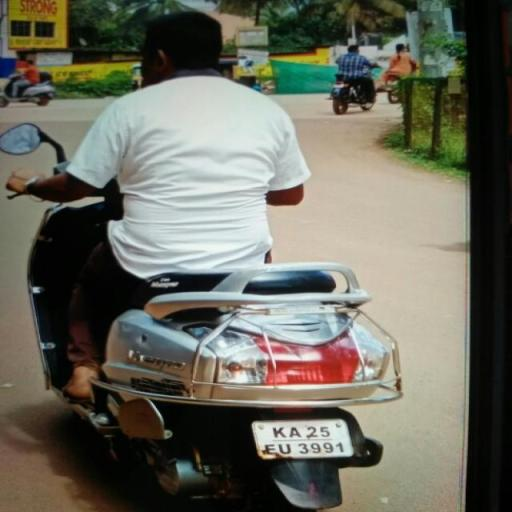bike: (0, 4, 410, 510)
numberplate: (250, 410, 362, 463)
withouthelmet: (143, 12, 222, 78)
